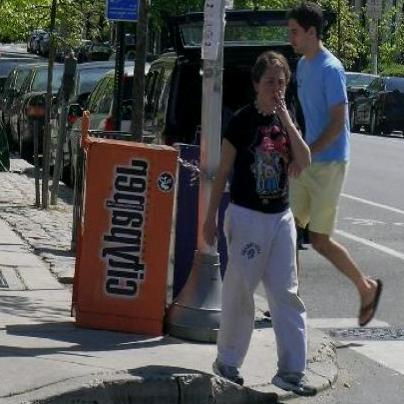ped: (205, 53, 316, 395), (291, 1, 384, 325)
